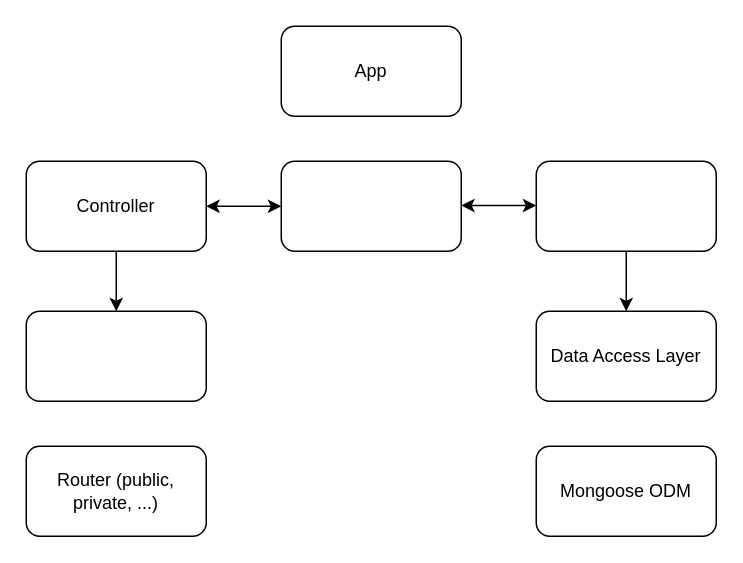
The diagram is 743 pixels wide and 563 high, and some of its shapes have lost their labels. Here are the shapes that lost their labels. From the top down, the centre of each, then its label:
At (x=370, y=205): "Model".
At (x=625, y=205): "Service".
At (x=115, y=355): "Router".
